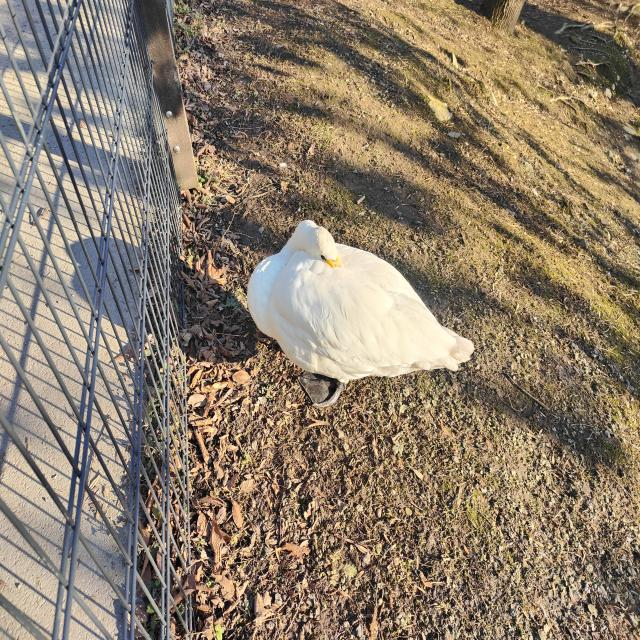bird: (248, 220, 474, 408)
